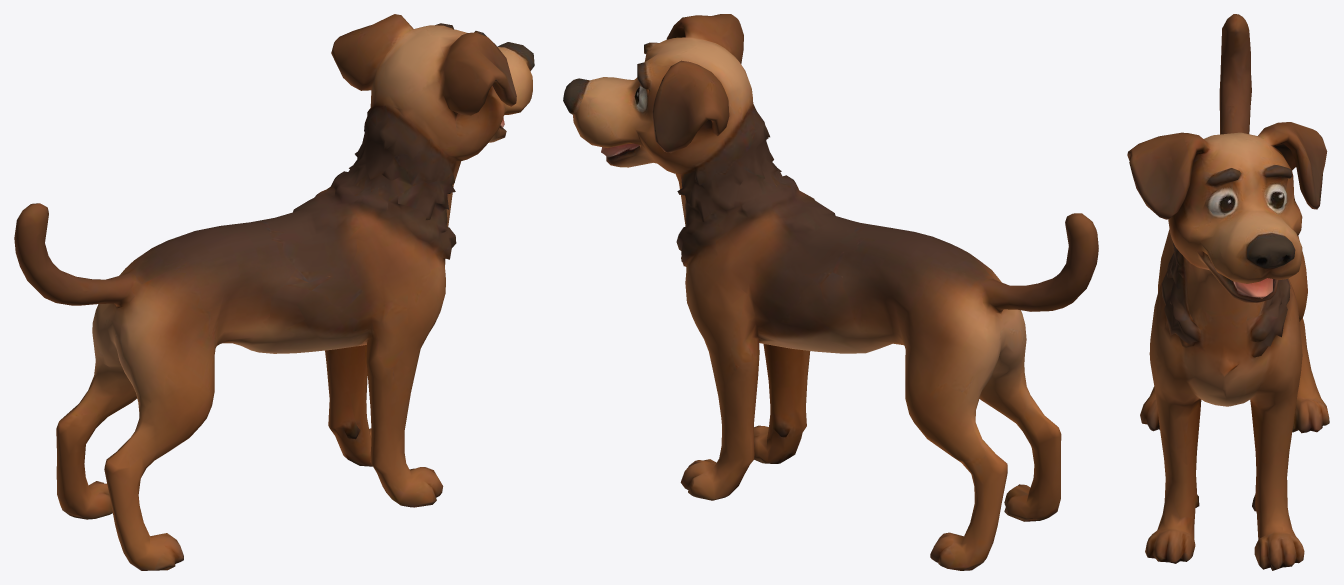
File: canelo.glb
3 views of the same model, side by side, from view 1: azimuth 30°, elevation 25°; view 2: azimuth 150°, elevation 25°; view 3: azimuth 270°, elevation 25° (orthographic). The views are drawn at different scales.
Visible parts, largest first — view 1: tripo_node_8956daac-1a68-4090-b654-4cce39b2be8a; view 2: tripo_node_8956daac-1a68-4090-b654-4cce39b2be8a; view 3: tripo_node_8956daac-1a68-4090-b654-4cce39b2be8a.
Part boxes in pixels (x1,y1,x2,y2): tripo_node_8956daac-1a68-4090-b654-4cce39b2be8a: [14, 14, 534, 570]; tripo_node_8956daac-1a68-4090-b654-4cce39b2be8a: [563, 14, 1098, 570]; tripo_node_8956daac-1a68-4090-b654-4cce39b2be8a: [1127, 14, 1329, 570].
Size of the model in its own units: 1 by 0.7976 by 0.3226.
1 material, 1 textured.
